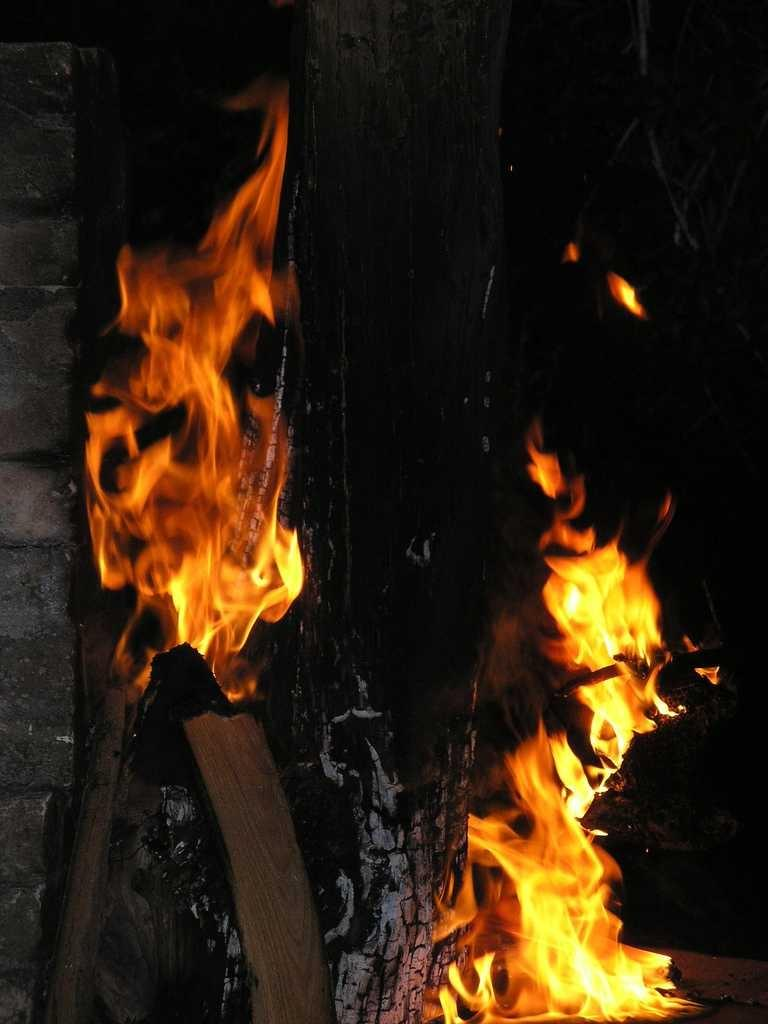fire: (110, 252, 278, 618), (460, 808, 602, 1005), (548, 555, 652, 720)
